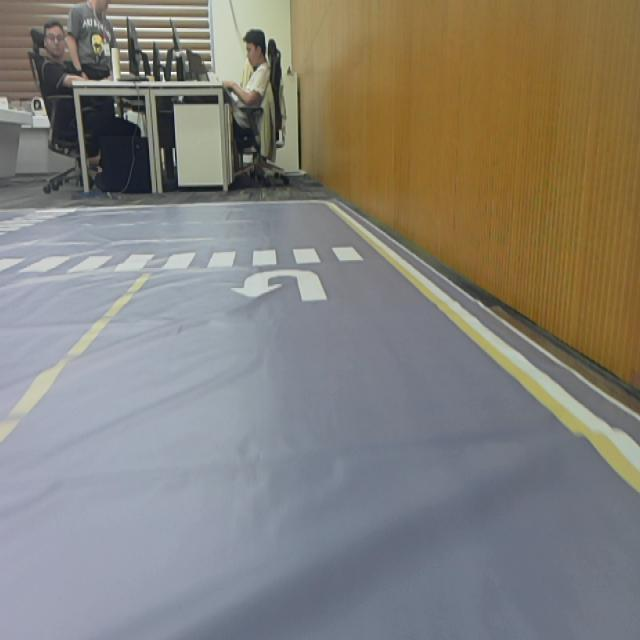left_lane: (0, 270, 157, 451)
right_lane: (326, 198, 640, 496)
